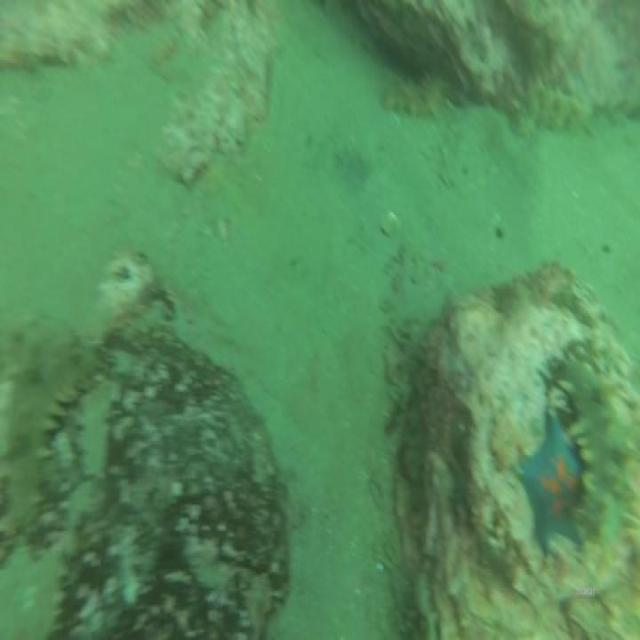holothurian: (12, 338, 102, 537), (556, 349, 640, 545), (517, 77, 594, 139), (377, 70, 451, 122)
starfish: (514, 412, 584, 554)
